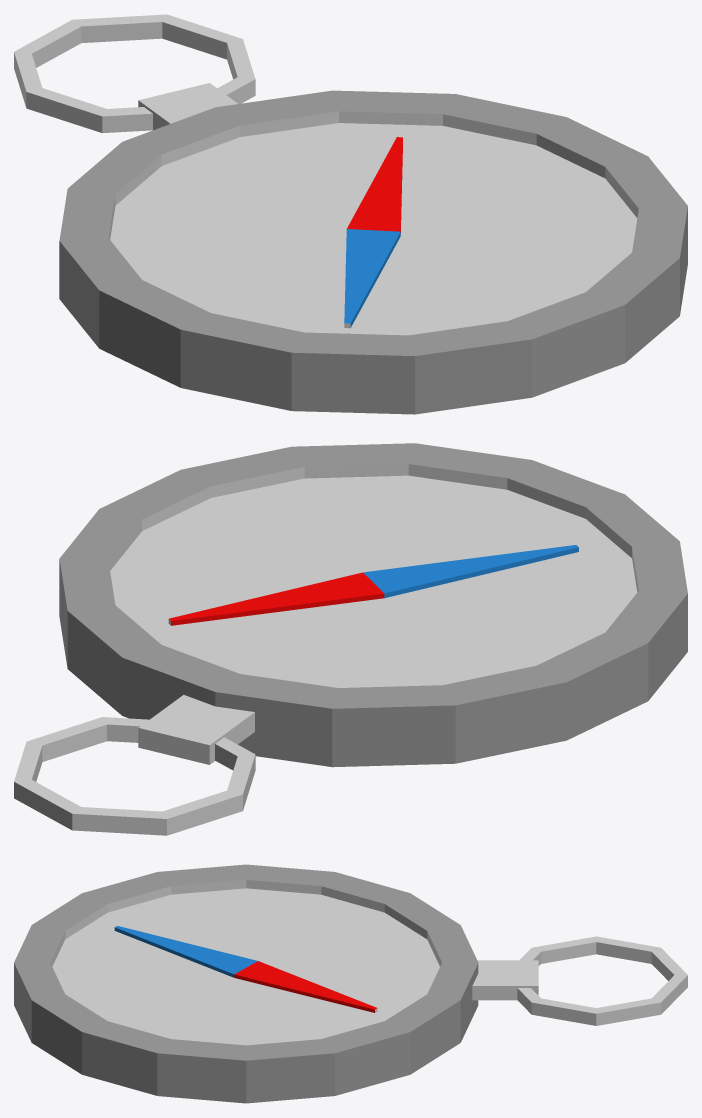
The model's file is Compass.fbx.
3 renders of one model, top to bottom at view 1: azimuth 30°, elevation 25°; view 2: azimuth 150°, elevation 25°; view 3: azimuth 270°, elevation 25°, orthographic. The views are drawn at different scales.
Parts seen in each view (by area): view 1: Compass; view 2: Compass; view 3: Compass.
Part boxes in pixels (x1,y1,x2,y2): Compass: [14, 14, 687, 414]; Compass: [14, 443, 687, 835]; Compass: [14, 864, 687, 1103].
Size of the model in its own units: 20.46 by 2.08 by 29.68.
